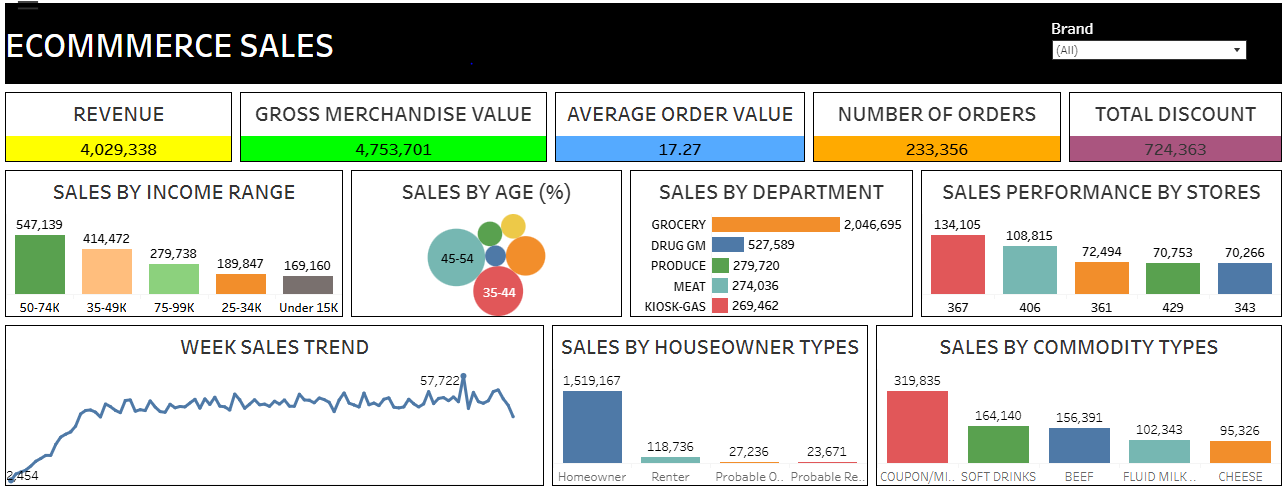

Layout of this report page (visuals, bound fields, positions):
{"tool":"tableau","page":{"name":"Dashboard 1","canvas":[1000,1000],"units":"permille","ordinal":0},"visuals":[{"type":"dashboard-object","box":[0,0,17.9,43.5]},{"type":"dashboard-object","box":[17.9,0,17.9,43.5]},{"type":"title","box":[6,14.5,988.1,161.2]},{"type":"filter","title":"Week","param":"[federated.1865um90h1cb1115rwbrw0kr4568].[none:BRAND:nk]","box":[813.4,50.7,151.5,97.8]},{"type":"worksheet","title":"Revenue","mark":"Automatic","box":[6,175.7,180.5,157.5]},{"type":"worksheet","title":"GMV","mark":"Automatic","box":[186.4,175.7,242.5,157.5]},{"type":"worksheet","title":"AOV","mark":"Automatic","box":[428.9,175.7,198.5,157.5]},{"type":"worksheet","title":"No. of Orders","mark":"Automatic","box":[627.5,175.7,197,157.5]},{"type":"worksheet","title":"Total Discount","mark":"Automatic","box":[824.5,175.7,169.6,157.5]},{"type":"worksheet","title":"iNCOME","mark":"Automatic","rows":["SALES_VALUE"],"cols":["INCOME_DESC"],"box":[6,333.2,265.7,311.4]},{"type":"worksheet","title":"Age","mark":"Circle","box":[271.6,333.2,214.9,311.4]},{"type":"worksheet","title":"DEPARTMENT 2","mark":"Automatic","rows":["DEPARTMENT"],"cols":["SALES_VALUE"],"box":[486.6,333.2,223.9,311.4]},{"type":"worksheet","title":"STORES","mark":"Automatic","rows":["SALES_VALUE"],"cols":["STORE_ID"],"box":[710.5,333.2,283.6,311.4]},{"type":"worksheet","title":"Week","mark":"Automatic","rows":["SALES_VALUE"],"cols":["WEEK_NO"],"box":[6,644.6,420.4,340.9]},{"type":"worksheet","title":"Houseowner","mark":"Automatic","rows":["SALES_VALUE"],"cols":["HOMEOWNER_DESC"],"box":[426.4,644.6,249,340.9]},{"type":"worksheet","title":"Commodity","mark":"Automatic","rows":["SALES_VALUE"],"cols":["COMMODITY_DESC"],"box":[675.4,644.6,318.7,340.9]}]}

Visuals, with their boxes on the dashboard's canvas, which has no fixed pixel size, in thousandths of its width and height (x1, y1, x2, y2). These are canvas units, not pixel positions in the 1287x490 screenshot, which may show the page scaled, cropped or inside an application window:
dashboard-object: (0,0,18,44)
dashboard-object: (18,0,36,44)
title: (6,14,994,176)
"Week" filter: (813,51,965,148)
"Revenue" worksheet: (6,176,186,333)
"GMV" worksheet: (186,176,429,333)
"AOV" worksheet: (429,176,627,333)
"No. of Orders" worksheet: (628,176,824,333)
"Total Discount" worksheet: (824,176,994,333)
"iNCOME" worksheet: (6,333,272,645)
"Age" worksheet (Circle marks): (272,333,486,645)
"DEPARTMENT 2" worksheet: (487,333,710,645)
"STORES" worksheet: (710,333,994,645)
"Week" worksheet: (6,645,426,986)
"Houseowner" worksheet: (426,645,675,986)
"Commodity" worksheet: (675,645,994,986)
